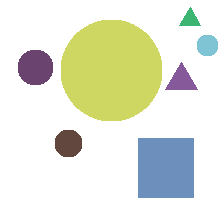circle: (61, 20, 161, 120), (18, 50, 52, 84), (55, 130, 81, 156), (197, 35, 217, 55)
rectangle: (138, 138, 193, 197)
triangle: (165, 62, 197, 89), (179, 7, 200, 25)
